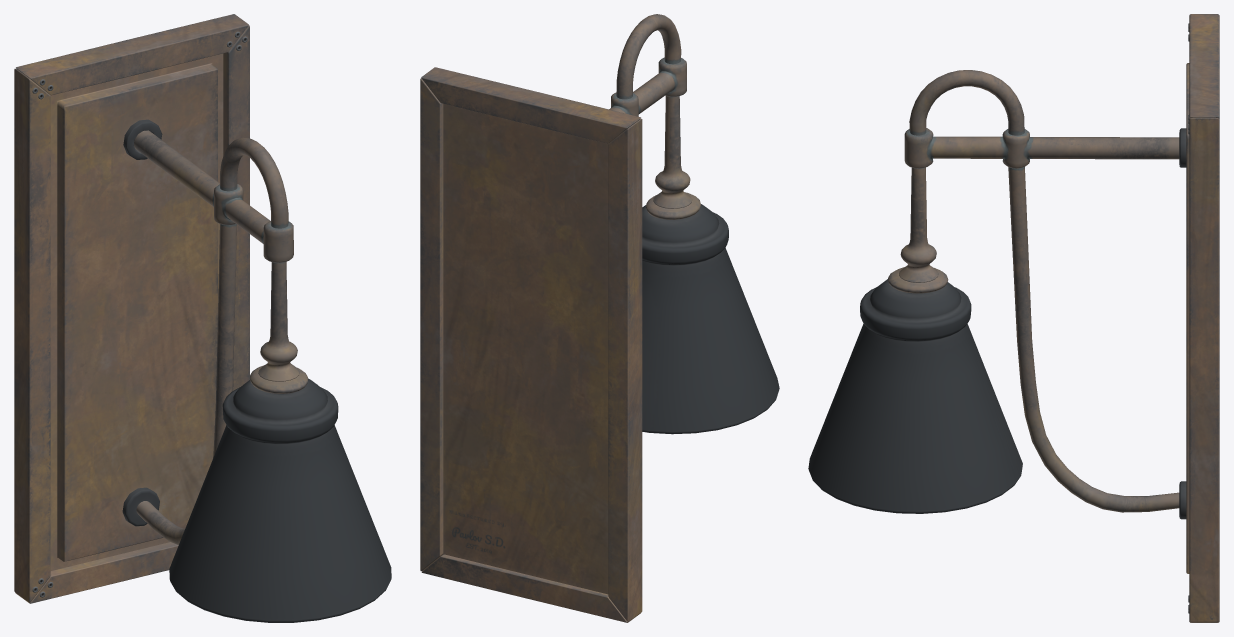
The model's file is sconce.obj.
The picture shows the model from 3 angles, left to right: view 1: azimuth 30°, elevation 25°; view 2: azimuth 150°, elevation 25°; view 3: azimuth 270°, elevation 25°; orthographic projection. The views are drawn at different scales.
Parts seen in each view (by area): view 1: industrial_wall_sconce; view 2: industrial_wall_sconce; view 3: industrial_wall_sconce.
Part boxes in pixels (x1,y1,x2,y2): industrial_wall_sconce: (14,14,391,622); industrial_wall_sconce: (420,14,779,622); industrial_wall_sconce: (808,14,1219,622).
Bounding box in the file's own units: 0.1503 × 0.3418 × 0.2516.
2 materials, 2 textured.
